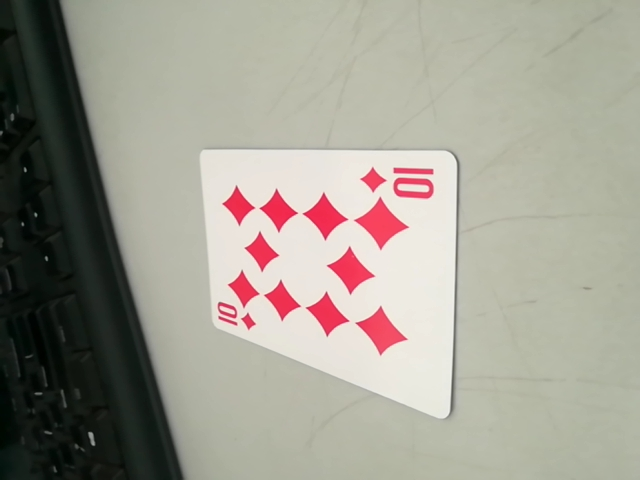fk 10: (361, 158, 443, 203), (210, 302, 263, 338)
